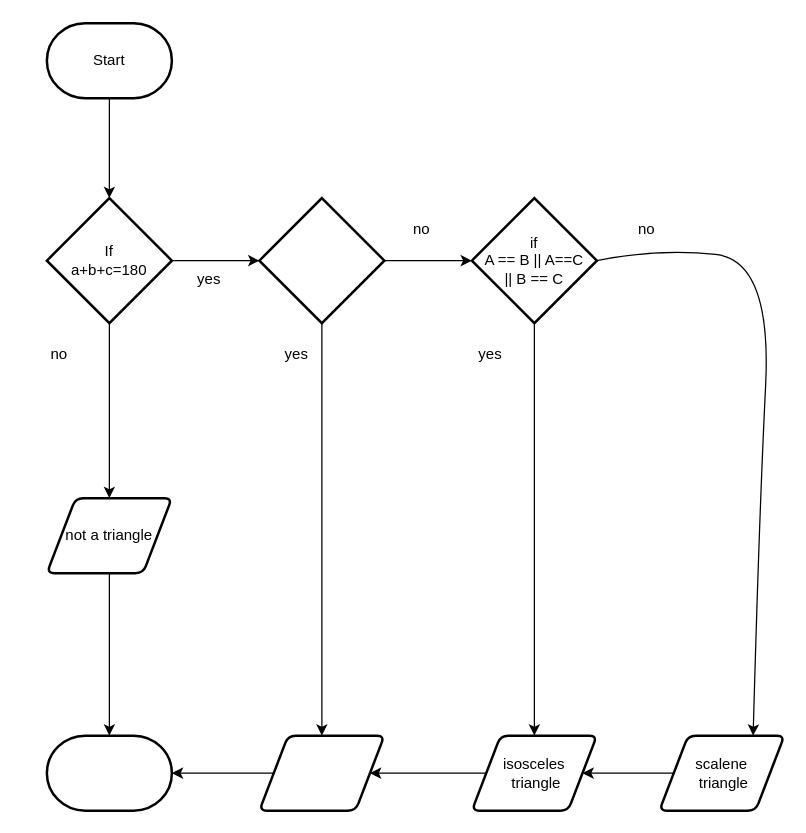
The diagram is 806 pixels wide and 833 high, and some of its shapes have lost their labels. The centre of each missing label's shape, as x and y in pixels:
equilateral triangle: point (321, 772)
if A == B && A==C && B == C: point (321, 260)
Stop: point (108, 772)
